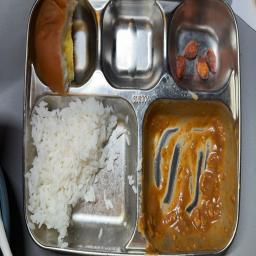25_nuts: (176, 20, 223, 87)
50_bread: (31, 1, 98, 94)
50_rice: (26, 96, 135, 252)
empty: (139, 102, 239, 252), (106, 9, 159, 87)
